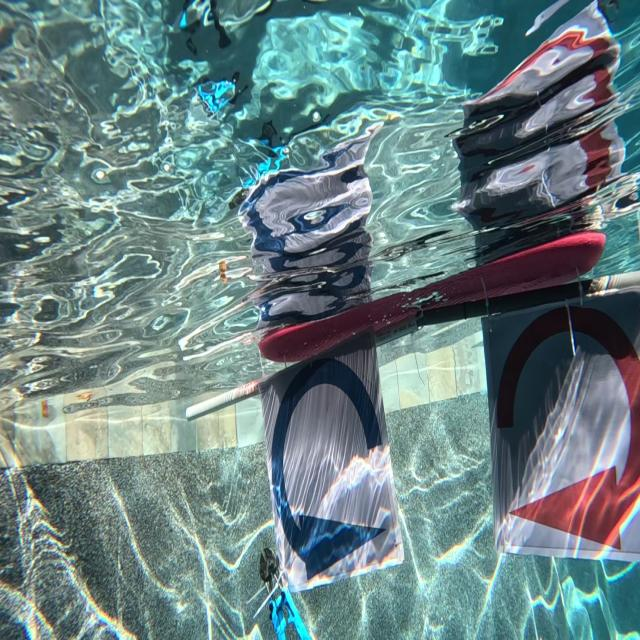blue_side: (262, 340, 406, 584)
red_side: (477, 287, 640, 558)
